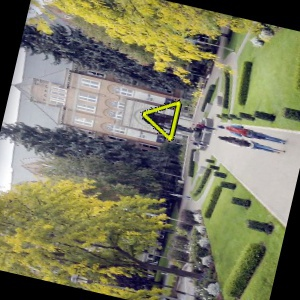triangle: (140, 99, 182, 143)
